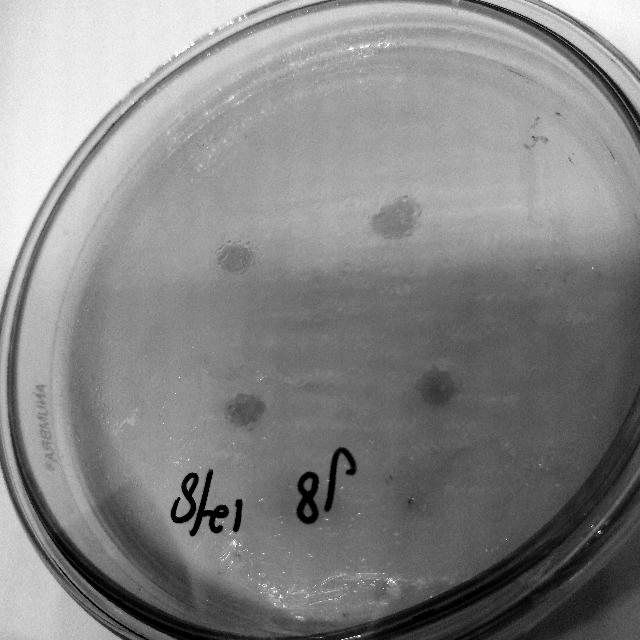colony: (367, 191, 423, 249), (413, 363, 461, 411), (208, 234, 260, 278), (225, 388, 269, 434)
